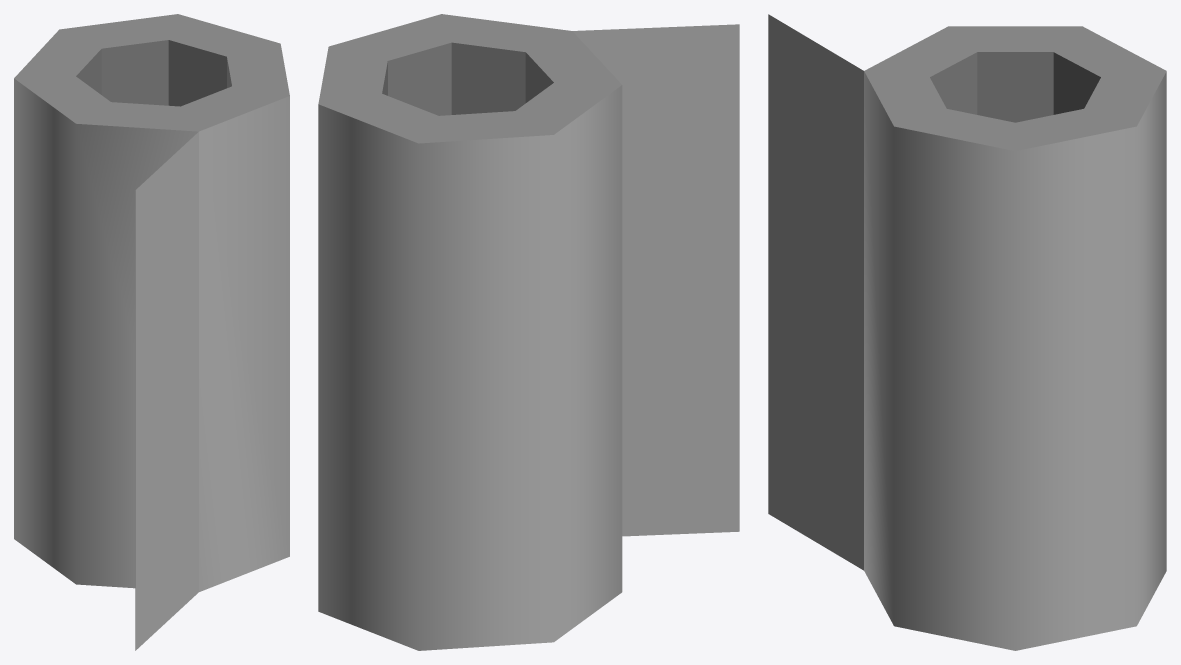
The model's file is Tissue paper.fbx.
3 views of the same model, side by side, from view 1: azimuth 30°, elevation 25°; view 2: azimuth 150°, elevation 25°; view 3: azimuth 270°, elevation 25° (orthographic). The views are drawn at different scales.
Visible parts, largest first — view 1: Tissue paper; view 2: Tissue paper; view 3: Tissue paper.
Boxes of the visible parts, x1,y1,x2,y2 form: Tissue paper: [14, 14, 289, 650]; Tissue paper: [318, 14, 739, 650]; Tissue paper: [768, 14, 1166, 650].
Bounding box in the file's own units: 14.16 × 24.06 × 17.39.
